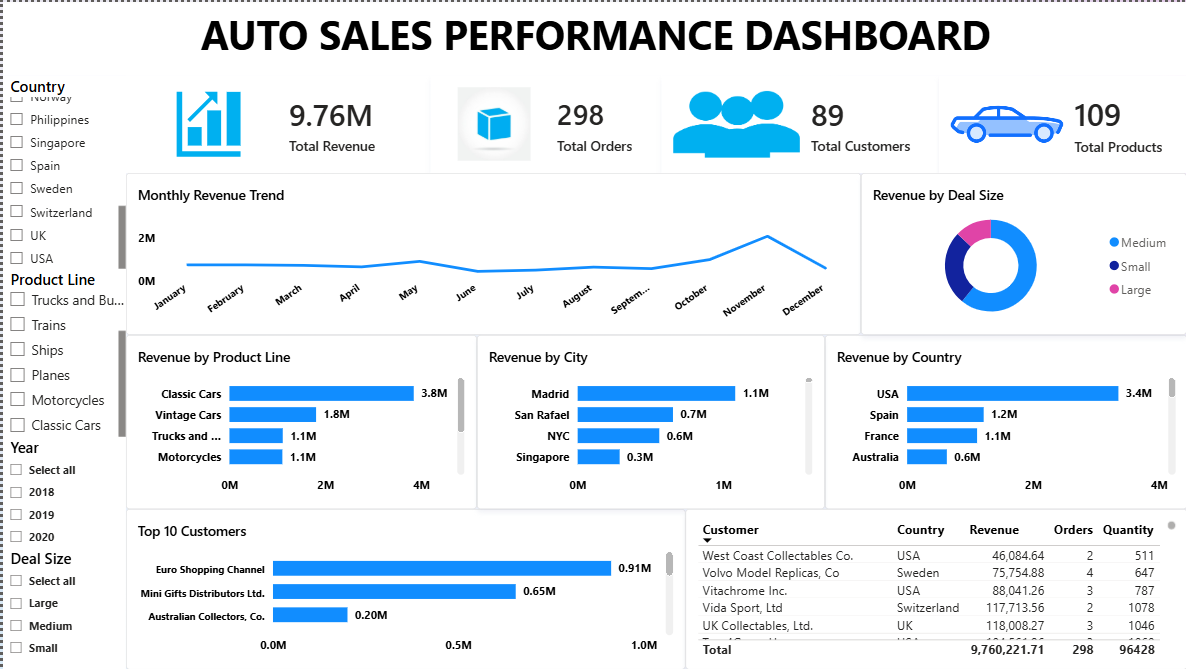

This screenshot's page, from the dashboard's own definition file:
{"tool":"powerbi","page":{"name":"Autosales Perfomance Dashboard","canvas":[1280,720],"ordinal":0},"visuals":[{"type":"cardVisual","fields":{"Data":["_measure.Total_revenue"]},"box":[132.8,79.3,328.7,105.2],"z":0},{"type":"cardVisual","fields":{"Data":["_measure.Total_orders"]},"box":[461.5,79.3,249.4,105.2],"z":1000},{"type":"cardVisual","fields":{"Data":["_measure.Total_customers"]},"box":[710.8,79.3,299.6,105.2],"z":2000},{"type":"cardVisual","fields":{"Data":["_measure.Total_products"]},"box":[1010.4,79.3,268.8,105.2],"z":3000},{"type":"lineChart","title":"Monthly Revenue Trend","fields":{"Y":["_measure.Total_revenue"],"Category":["Date.Month"]},"box":[132.8,184.6,793.4,174.9],"z":4000},{"type":"clusteredBarChart","title":"Revenue by Product Line","fields":{"Y":["_measure.Total_revenue"],"Category":["dim_products.product_line"]},"box":[132.8,359.5,378.9,187.8],"z":5000},{"type":"barChart","title":"Revenue by Country","fields":{"Y":["_measure.Total_revenue"],"Category":["dim_customers.country"]},"box":[887.3,359.5,391.9,187.8],"z":6000},{"type":"clusteredBarChart","title":"Top 10 Customers","fields":{"Category":["dim_customers.customer_name"],"Y":["_measure.Total_revenue"]},"box":[132.8,547.3,604,173.3],"z":7000},{"type":"donutChart","title":"Revenue by Deal Size","fields":{"Category":["fact_sales.deal_size"],"Y":["_measure.Total_revenue"]},"box":[926.2,184.6,353,174.9],"z":8000},{"type":"clusteredBarChart","title":"Revenue by City","fields":{"Category":["dim_customers.city"],"Y":["_measure.Total_revenue"]},"box":[511.7,359.5,375.7,187.8],"z":10000},{"type":"tableEx","fields":{"Values":["fact_sales.customer_name","dim_customers.country","_measure.Total_revenue","_measure.Total_orders","_measure.Total_quantity"]},"box":[736.7,547.3,542.4,173.3],"z":11000},{"type":"slicer","fields":{"Values":["Date.Year"]},"box":[0,469.6,132.8,119.8],"z":12000},{"type":"slicer","fields":{"Values":["dim_customers.country"]},"box":[0,79.3,132.8,208.9],"z":13000},{"type":"slicer","fields":{"Values":["dim_products.product_line"]},"box":[0,288.2,132.8,181.4],"z":14000},{"type":"slicer","fields":{"Values":["fact_sales.deal_size"]},"box":[0,589.4,132.8,131.2],"z":15000},{"type":"textbox","box":[0,0,1279.2,79.3],"z":16000}]}

Visuals, with their boxes in screenshot pixels (x1, y1, x2, y2), scaled from the page's 1280x720 canvas onto the 1186x669 screenshot:
cardVisual - _measure.Total_revenue: bbox=[123, 74, 428, 171]
cardVisual - _measure.Total_orders: bbox=[428, 74, 659, 171]
cardVisual - _measure.Total_customers: bbox=[659, 74, 936, 171]
cardVisual - _measure.Total_products: bbox=[936, 74, 1185, 171]
"Monthly Revenue Trend" lineChart: bbox=[123, 172, 858, 334]
"Revenue by Product Line" clusteredBarChart: bbox=[123, 334, 474, 509]
"Revenue by Country" barChart: bbox=[822, 334, 1185, 509]
"Top 10 Customers" clusteredBarChart: bbox=[123, 509, 683, 668]
"Revenue by Deal Size" donutChart: bbox=[858, 172, 1185, 334]
"Revenue by City" clusteredBarChart: bbox=[474, 334, 822, 509]
tableEx - fact_sales.customer_name x dim_customers.country: bbox=[683, 509, 1185, 668]
slicer - Date.Year: bbox=[0, 436, 123, 548]
slicer - dim_customers.country: bbox=[0, 74, 123, 268]
slicer - dim_products.product_line: bbox=[0, 268, 123, 436]
slicer - fact_sales.deal_size: bbox=[0, 548, 123, 668]
textbox: bbox=[0, 0, 1185, 74]
